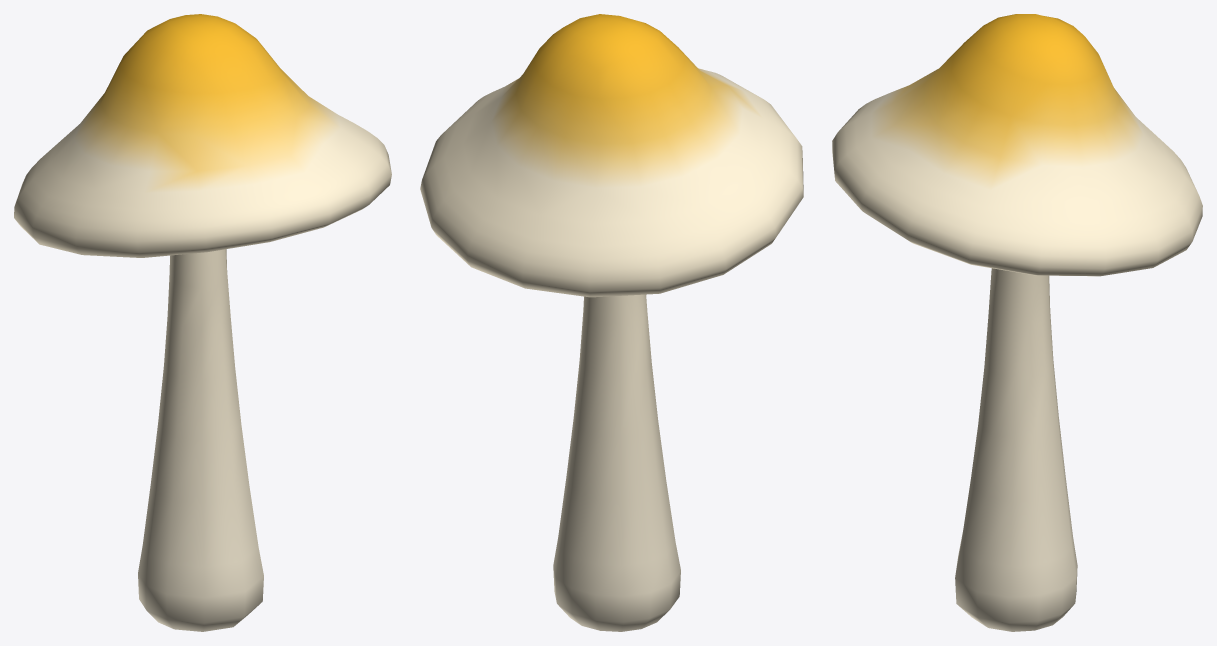
File: Mushroom_0001_0028.fbx
3 renders of one model, left to right at view 1: azimuth 30°, elevation 25°; view 2: azimuth 150°, elevation 25°; view 3: azimuth 270°, elevation 25°, orthographic.
Visible parts, largest first — view 1: Mushroom_0001_0028; view 2: Mushroom_0001_0028; view 3: Mushroom_0001_0028.
Part boxes in pixels (<box>): Mushroom_0001_0028: <box>14,14,391,631</box>; Mushroom_0001_0028: <box>420,14,803,631</box>; Mushroom_0001_0028: <box>832,14,1202,631</box>.
Size of the model in its own units: 0.1803 by 0.3071 by 0.1733.
Materials: 1 (1 with a texture image).
